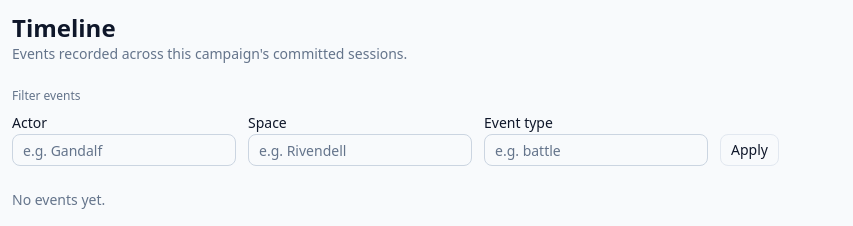
Scenario: TimelinePage › distinguishes a filtered-empty feed from a truly empty one
Expected: the text "No events yet." is shown, [12, 190, 105, 209]
Step 1. Type "ghost" into the field labelled "Event type" → (596, 150), box [484, 134, 708, 166]
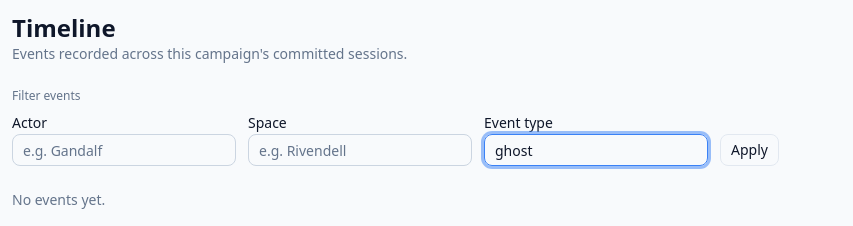
Step 2. Click the button "Apply" → (749, 150), box [720, 134, 779, 166]
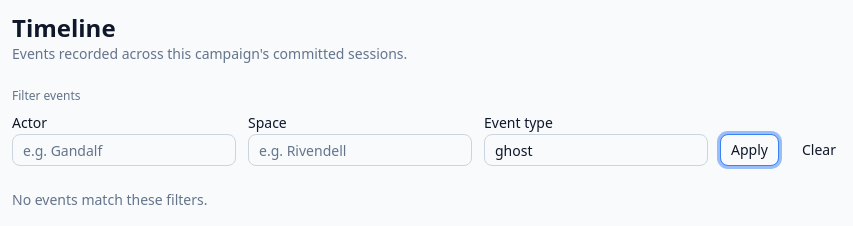
Expected: the text "No events match these filters." is shown, [12, 190, 208, 209]
